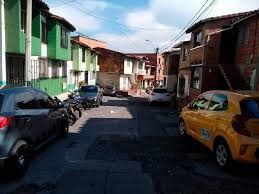car: (178, 88, 258, 169), (179, 87, 258, 168), (1, 87, 69, 180), (2, 85, 70, 136), (4, 87, 66, 119), (50, 91, 79, 117), (63, 85, 97, 106), (73, 85, 101, 107), (55, 86, 81, 104), (53, 90, 76, 109), (147, 88, 173, 104), (99, 81, 117, 96)
